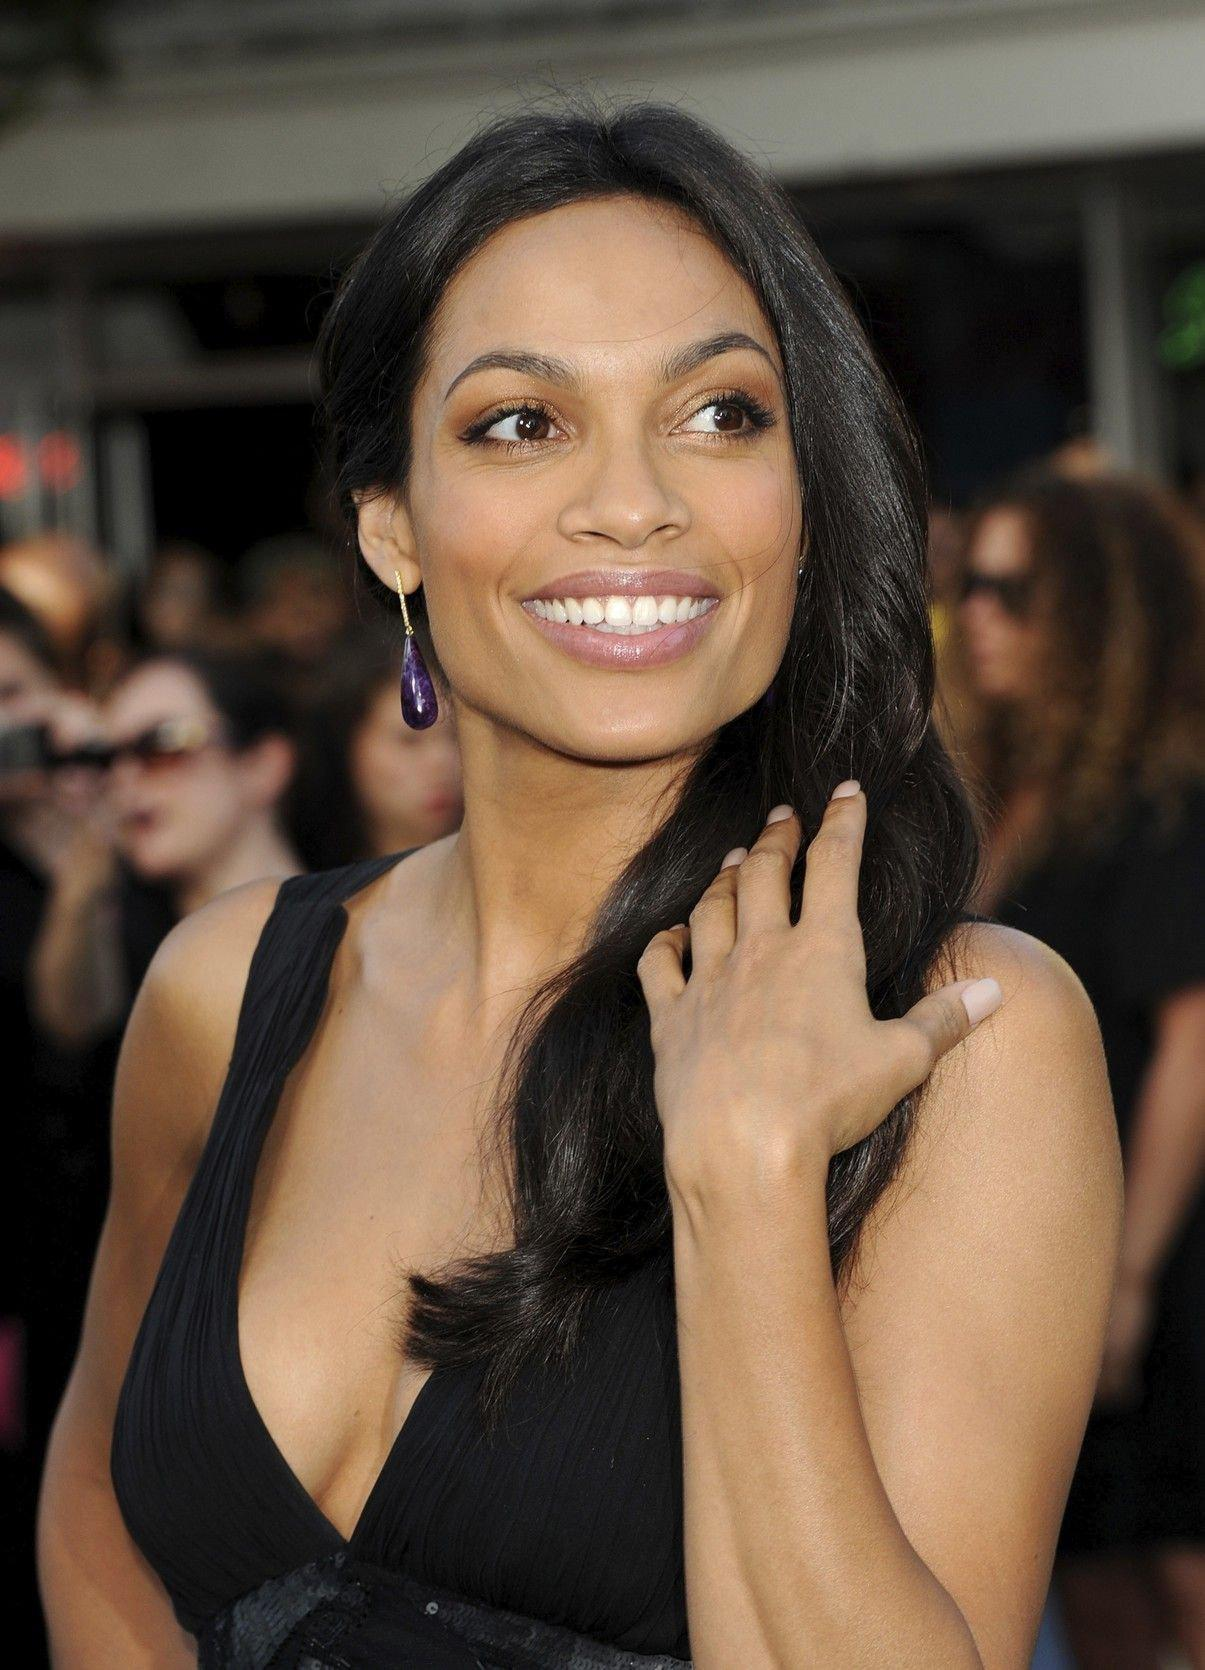Sober: (428, 244, 796, 716)
